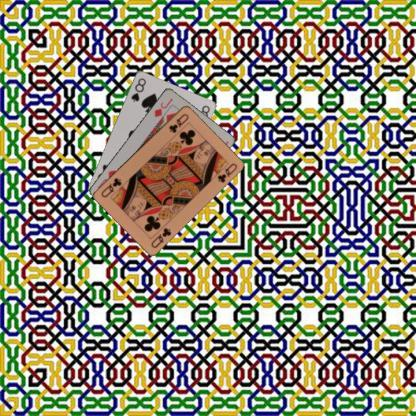8s: (128, 75, 147, 103)
Jd: (152, 95, 174, 118)
Qc: (148, 225, 173, 249), (166, 111, 190, 134)
